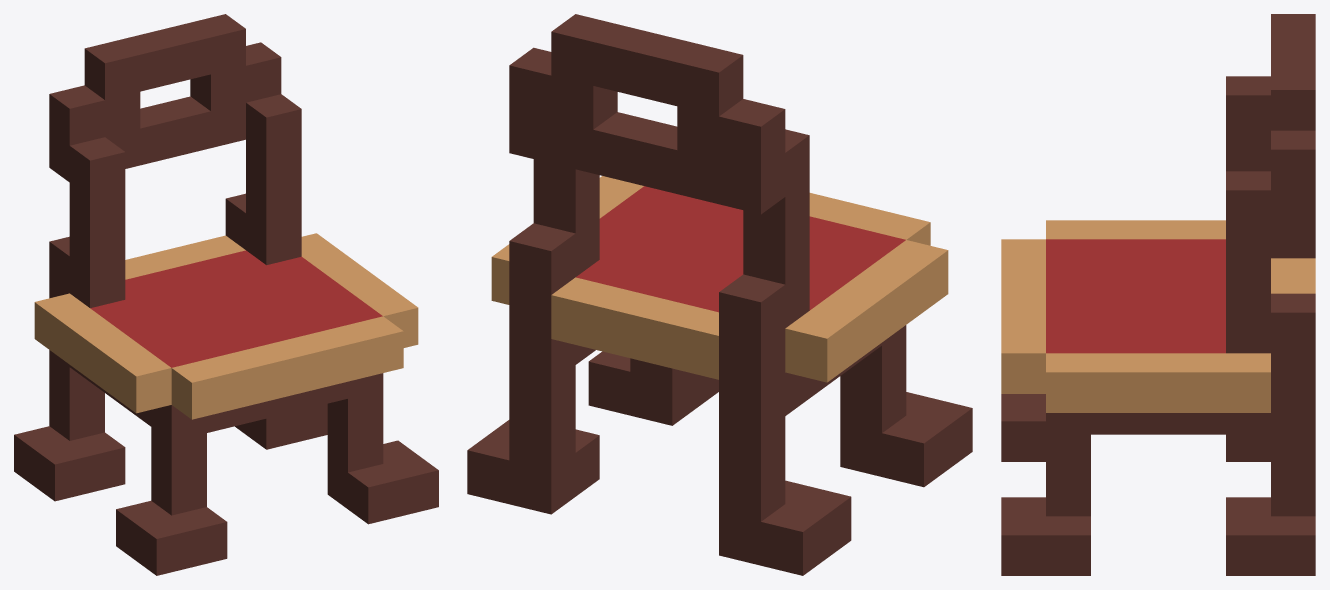
The model's file is Chair.obj.
3 renders of one model, left to right at view 1: azimuth 30°, elevation 25°; view 2: azimuth 150°, elevation 25°; view 3: azimuth 270°, elevation 25°, orthographic. The views are drawn at different scales.
Parts seen in each view (by area): view 1: Chair; view 2: Chair; view 3: Chair.
Part boxes in pixels (x1,y1,x2,y2): Chair: (14, 14, 438, 575); Chair: (467, 14, 972, 575); Chair: (1001, 14, 1315, 575).
Bounding box in the file's own units: 0.8 × 1.1 × 0.7.
1 material, 1 textured.
